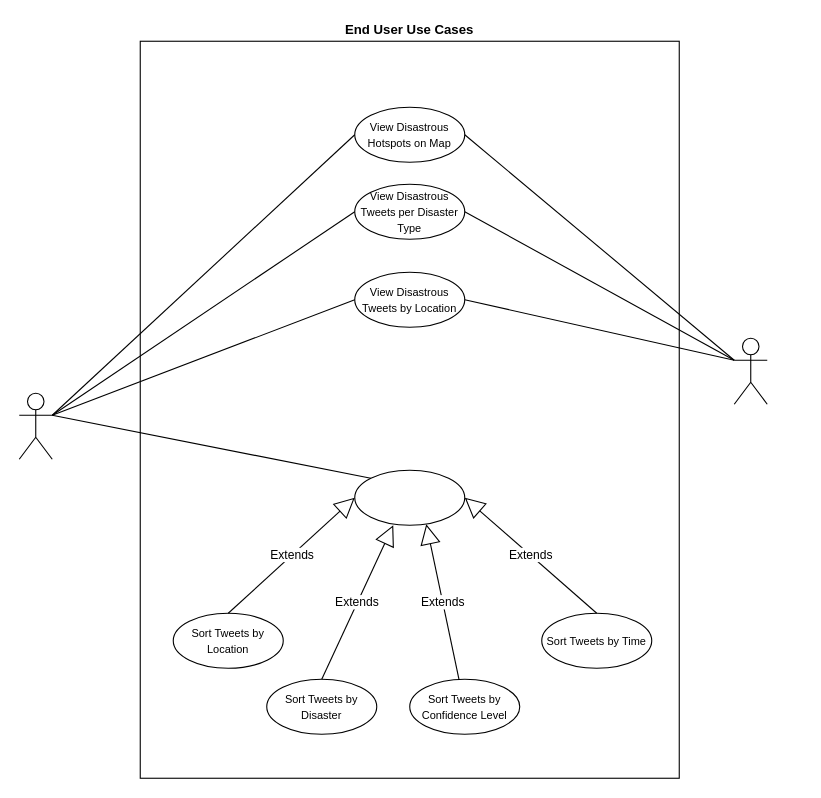
This 821x798 diagram has some shape labels left out. Each missing label, with the box of its shape:
Sort Tweets: (354, 469, 465, 525)
Tweets Database: (733, 337, 767, 404)
User: (18, 392, 52, 459)
